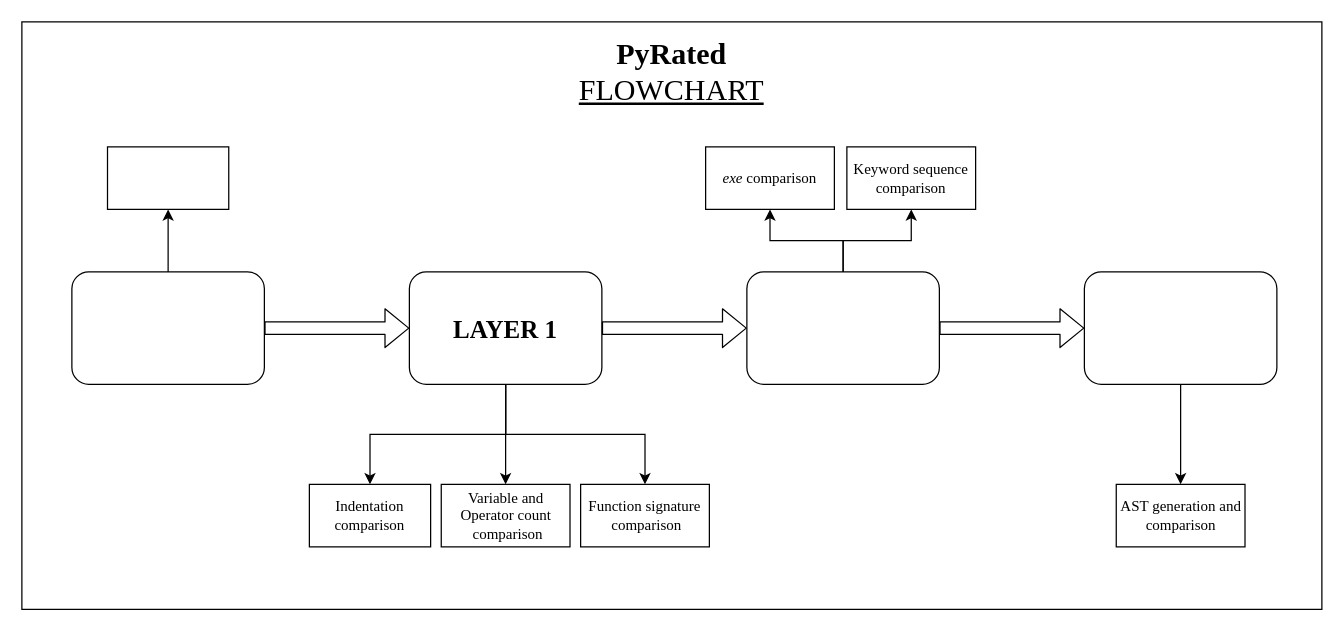
This 1344x631 diagram has some shape labels left out. Each missing label, with the centre of its shape:
"Duplicate check" belongs at (167,177).
"LAYER 0" belongs at (167,327).
"LAYER 2" belongs at (842,327).
"LAYER 3" belongs at (1180,327).
